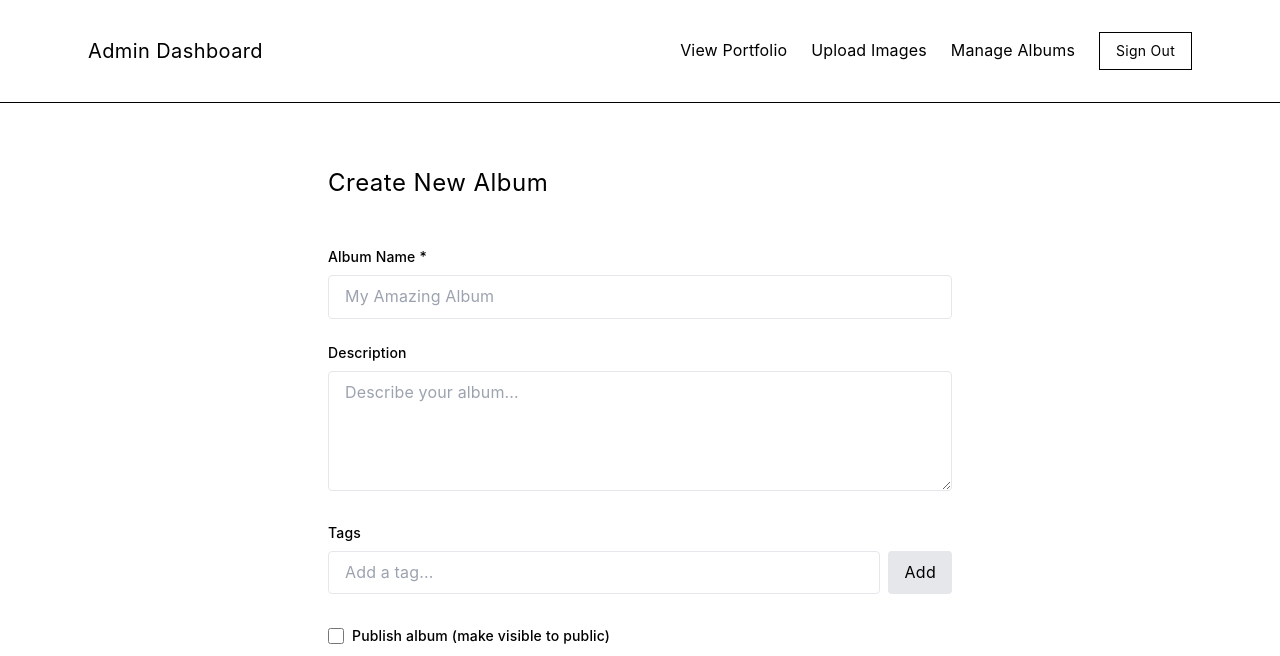
Scenario: CreateAlbumPage › should add tags
Type "nature" into the field with placeholder "Add a tag..." at (604, 572), box x1=328 y1=551 x2=880 y2=594
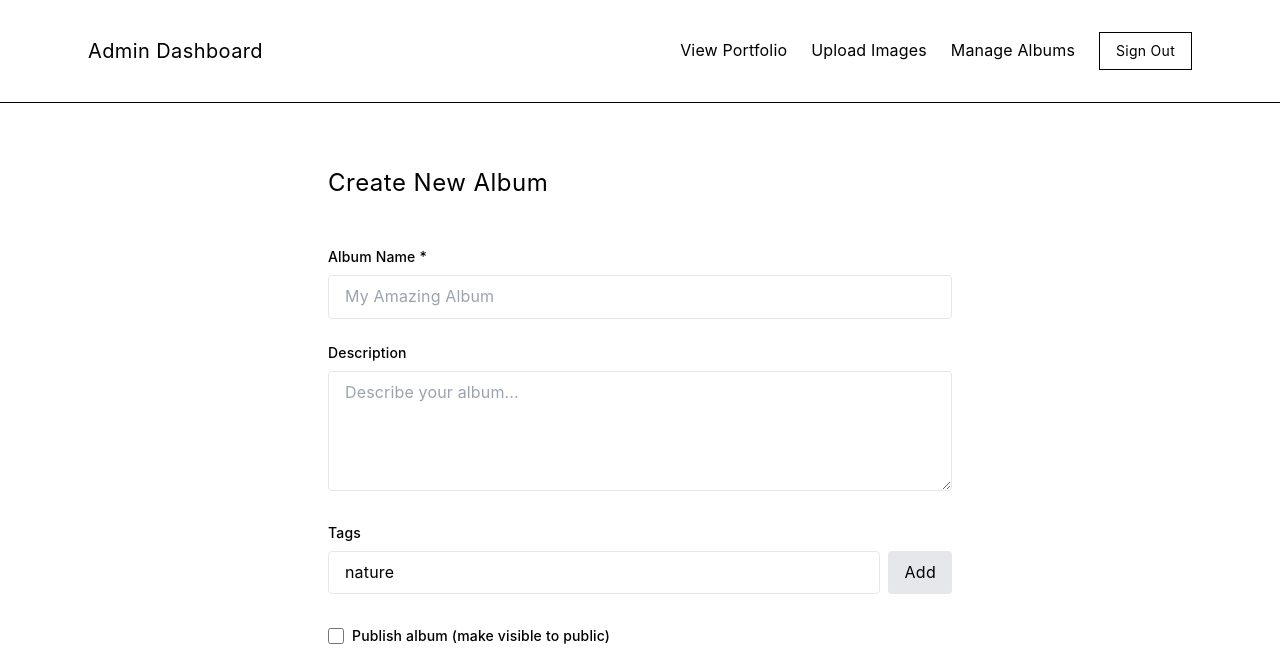
Click the button "Add" at (920, 572), box x1=888 y1=551 x2=952 y2=594
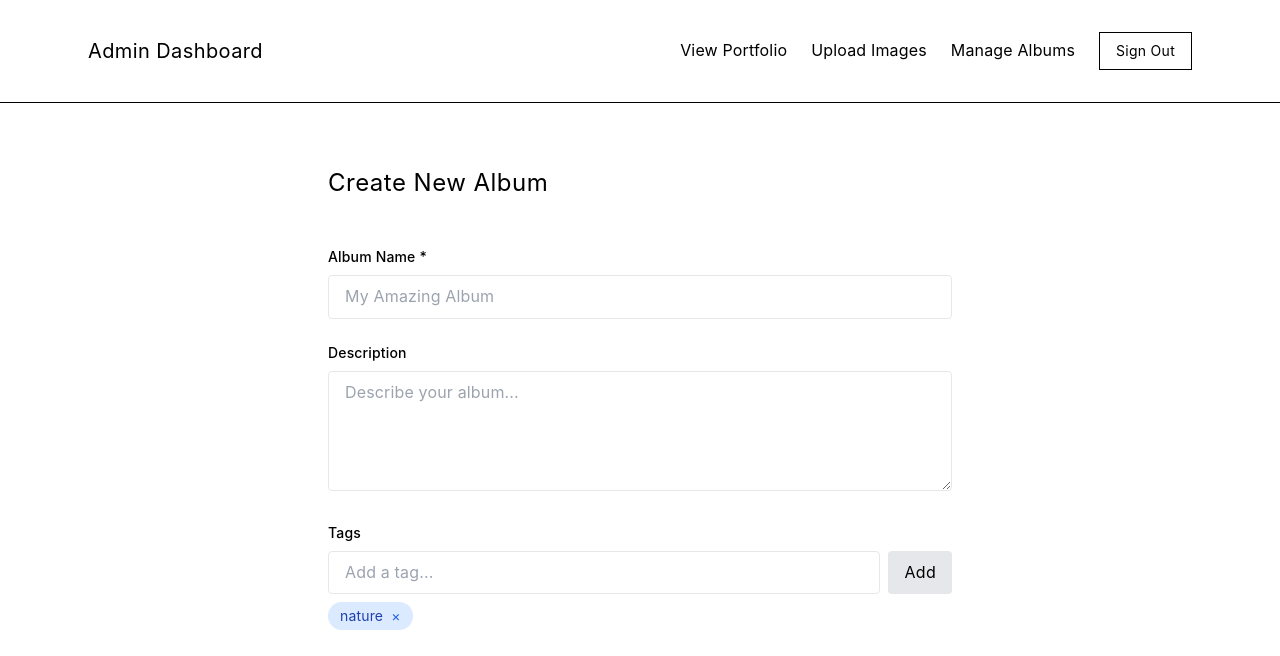
Check: the text "nature" is shown, box x1=340 y1=607 x2=383 y2=624
